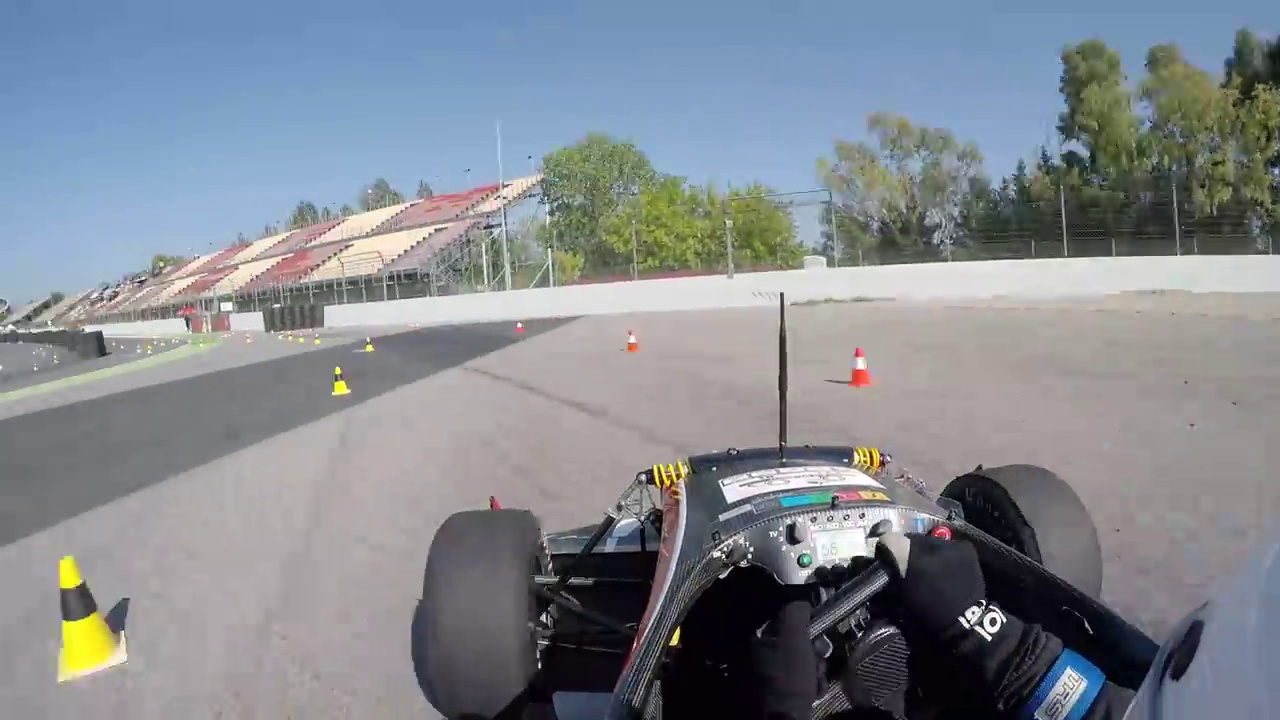Cone: (53, 553, 125, 684), (847, 345, 872, 385), (329, 364, 352, 397)
